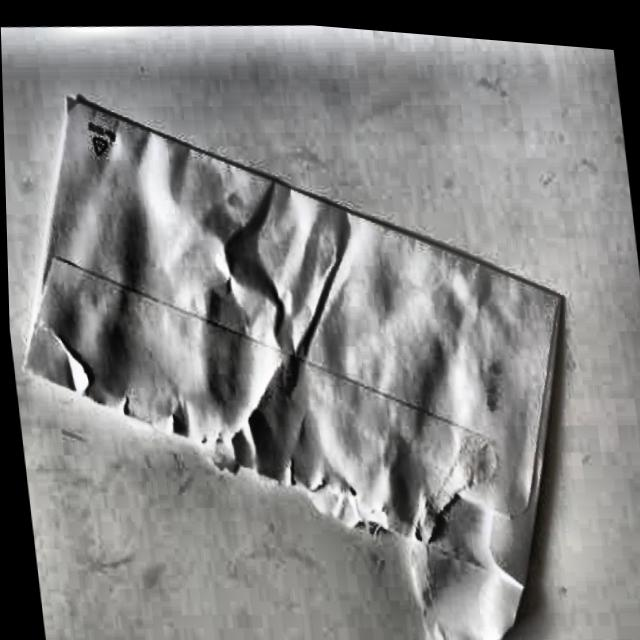Paper: (1, 43, 607, 640)
